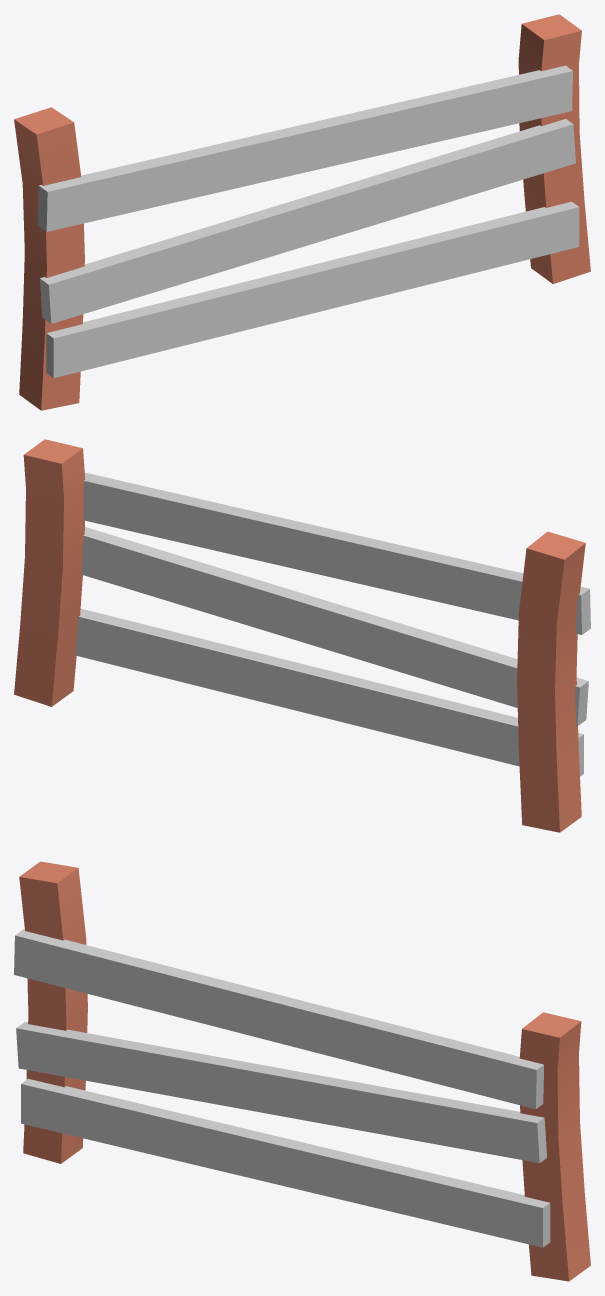
The model's file is fece02.fbx.
The picture shows the model from 3 angles, top to bottom: view 1: azimuth 30°, elevation 25°; view 2: azimuth 150°, elevation 25°; view 3: azimuth 330°, elevation 25°; orthographic projection.
Parts seen in each view (by area): view 1: Fence02; view 2: Fence02; view 3: Fence02.
Boxes of the visible parts, x1=… form: Fence02: x1=14, y1=14, x2=590, y2=410; Fence02: x1=14, y1=439, x2=590, y2=832; Fence02: x1=14, y1=861, x2=590, y2=1281.
Size of the model in its own units: 301 by 146 by 28.18.
